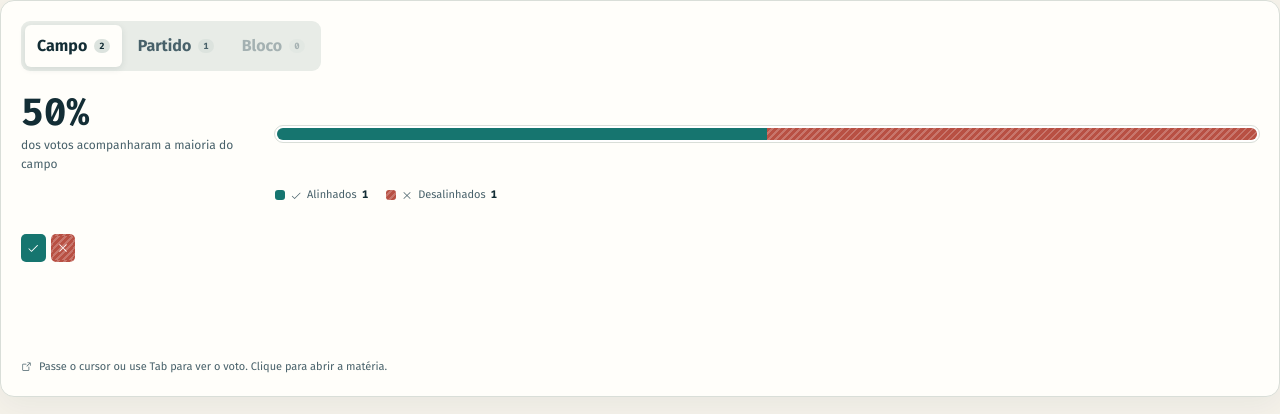
Test: AlignmentChart › lets keyboard users switch the comparison reference
This screenshot has width=1280, height=414.
Click the tab "Partido 1" at point(176, 46), box [126,25,226,67]
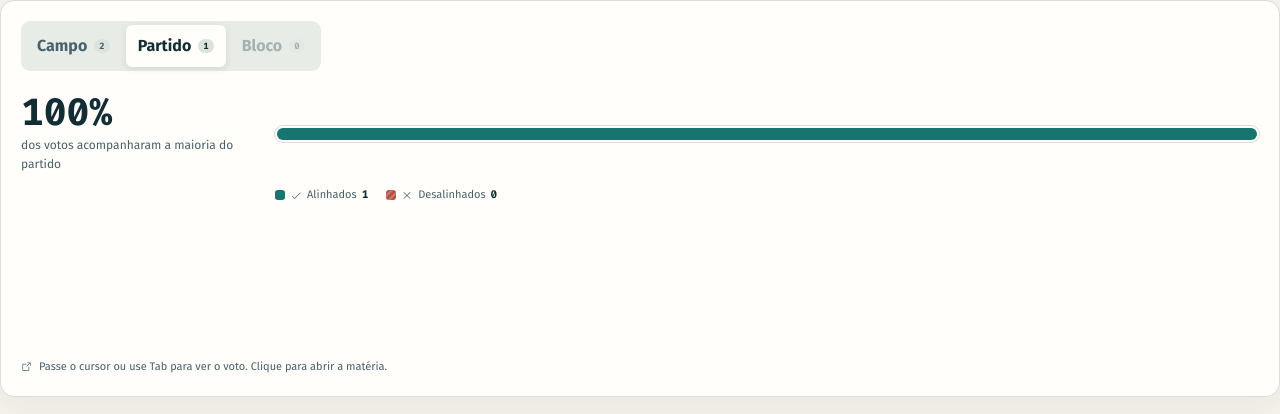
Check: the tab "Bloco 0" is disabled, box [230,25,317,67]
Check: the text "100%" is shown, box [21,87,112,137]
